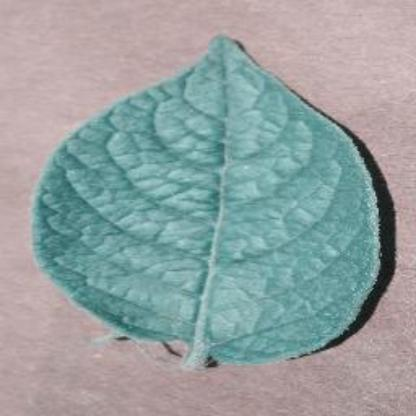Healthy-plant: (26, 31, 387, 379)
